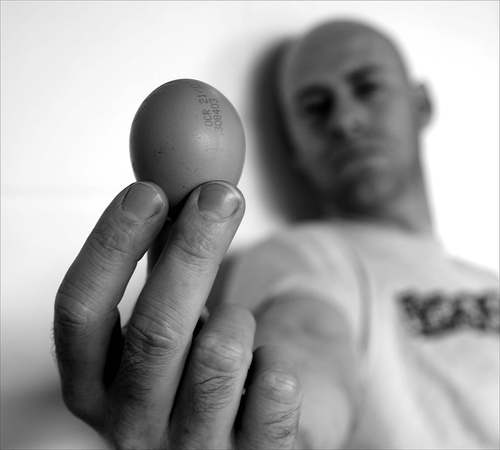egg: (130, 76, 246, 227)
